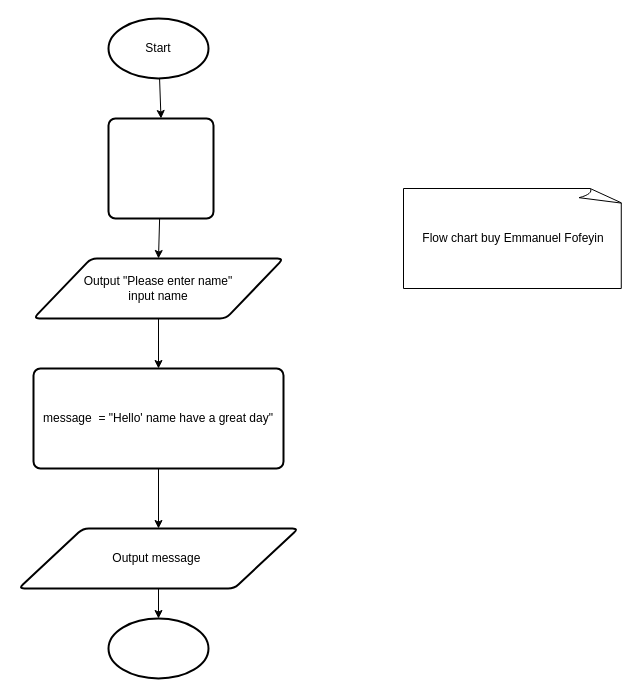
Image size: 641x696. Some labels were removed from this diagram. The centre of each missing label's shape, as x and y in pixels:
"Declorations string name string message" goes at point (160, 168).
"Stop" goes at point (158, 648).
